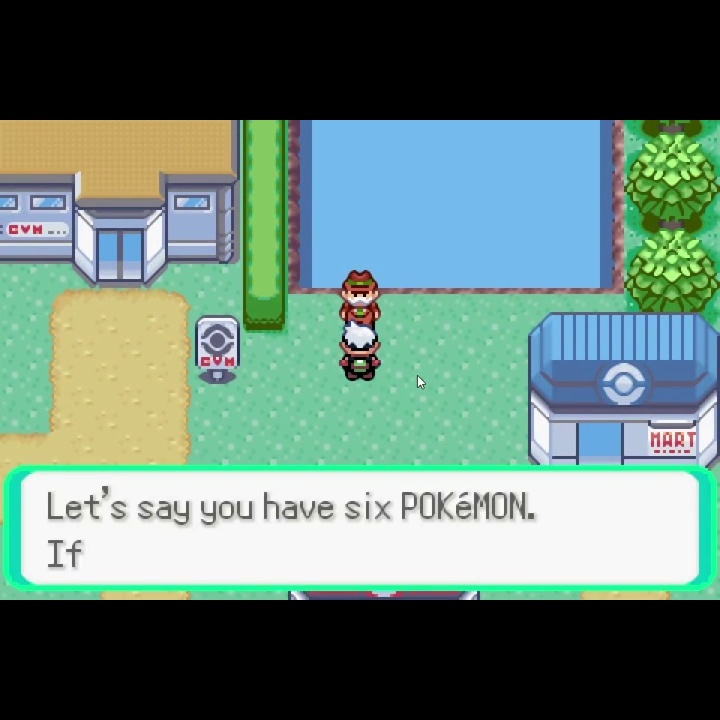gym: (1, 120, 241, 289)
npc: (334, 325, 385, 382), (337, 265, 384, 324)
pokemart: (525, 309, 720, 465)
wall: (625, 141, 720, 230), (625, 230, 720, 312), (625, 120, 720, 141)
